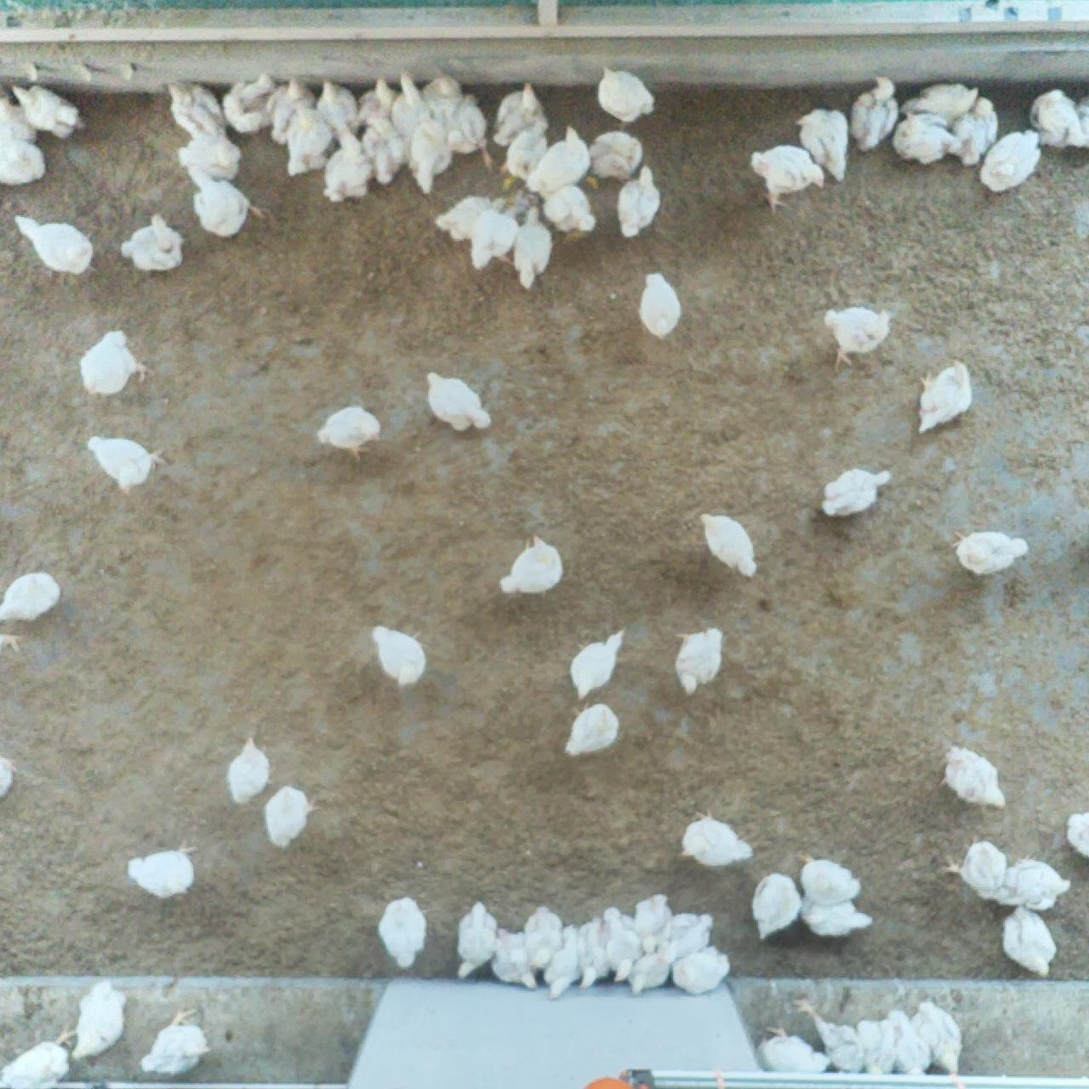chicken: (9, 215, 97, 274), (86, 435, 165, 499), (4, 1025, 81, 1089), (135, 1012, 211, 1073), (81, 331, 145, 401), (803, 1000, 863, 1073), (942, 742, 1006, 810), (529, 126, 590, 196), (71, 983, 124, 1063), (1001, 909, 1060, 980), (829, 304, 890, 372), (916, 365, 972, 439), (493, 535, 563, 593), (677, 814, 755, 866), (188, 180, 263, 234), (128, 841, 197, 899), (122, 213, 184, 275), (698, 511, 755, 578), (950, 836, 1006, 904), (752, 151, 821, 206), (428, 376, 491, 436), (570, 625, 623, 696), (820, 470, 891, 522), (982, 130, 1041, 192), (991, 862, 1073, 906), (14, 87, 82, 140), (915, 1003, 966, 1073), (324, 135, 374, 206), (792, 854, 864, 903), (316, 405, 379, 461), (355, 121, 408, 187), (748, 874, 799, 942), (800, 105, 847, 178), (381, 898, 427, 971), (373, 629, 428, 690), (798, 895, 874, 939), (490, 83, 541, 148), (597, 66, 655, 123), (1027, 92, 1082, 152), (175, 135, 238, 187), (676, 624, 721, 696), (955, 533, 1027, 578), (761, 1029, 831, 1075), (563, 701, 617, 760), (1, 573, 63, 624), (450, 904, 491, 980), (226, 738, 269, 810), (308, 78, 354, 145), (402, 124, 449, 189), (852, 79, 894, 148), (620, 165, 660, 237), (638, 271, 679, 341), (894, 118, 956, 164), (544, 925, 582, 1000), (359, 82, 408, 139), (513, 209, 548, 288), (892, 1006, 932, 1075), (280, 118, 326, 178), (585, 132, 642, 180), (269, 788, 314, 848), (472, 202, 512, 268), (168, 83, 217, 136), (546, 186, 598, 235), (524, 908, 563, 973), (858, 1015, 898, 1078), (601, 912, 636, 984), (631, 944, 679, 996), (674, 949, 730, 993), (277, 83, 315, 145), (502, 126, 541, 183), (493, 930, 529, 991), (448, 100, 485, 156), (1, 139, 45, 186), (230, 79, 271, 129), (391, 77, 425, 137), (906, 85, 982, 111), (964, 101, 998, 157), (666, 915, 710, 956), (579, 921, 604, 990), (641, 896, 670, 955), (430, 67, 461, 121), (1, 93, 34, 143), (440, 198, 476, 242), (1068, 807, 1086, 861), (1, 751, 12, 807), (1080, 101, 1089, 149)
